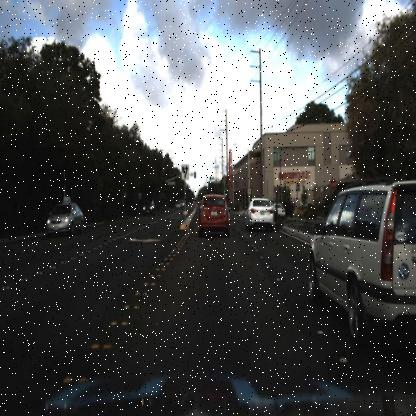car: (302, 170, 416, 371), (190, 191, 236, 241), (241, 190, 277, 238), (46, 201, 84, 239), (272, 198, 290, 219), (142, 200, 157, 218)
